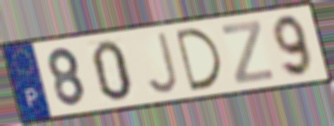0: (90, 38, 136, 103)
8: (47, 46, 89, 109)
9: (269, 12, 316, 80)
D: (172, 26, 225, 94)
J: (144, 31, 181, 97)
Z: (219, 18, 276, 86)
